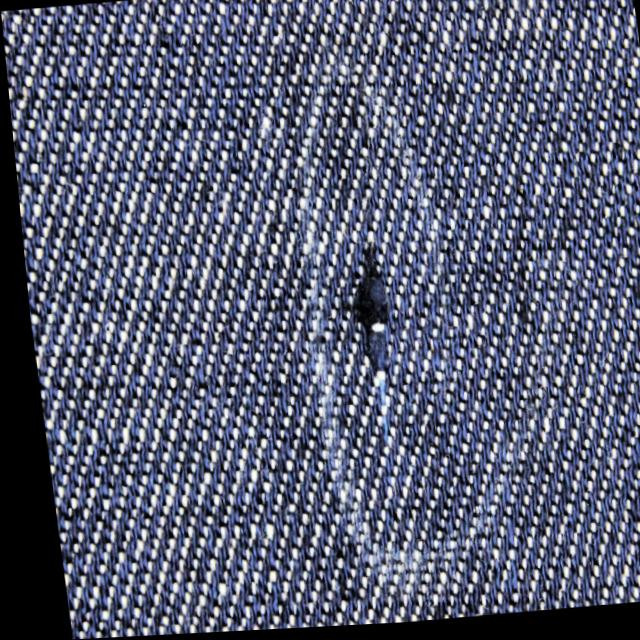Hole: (324, 223, 418, 460)
